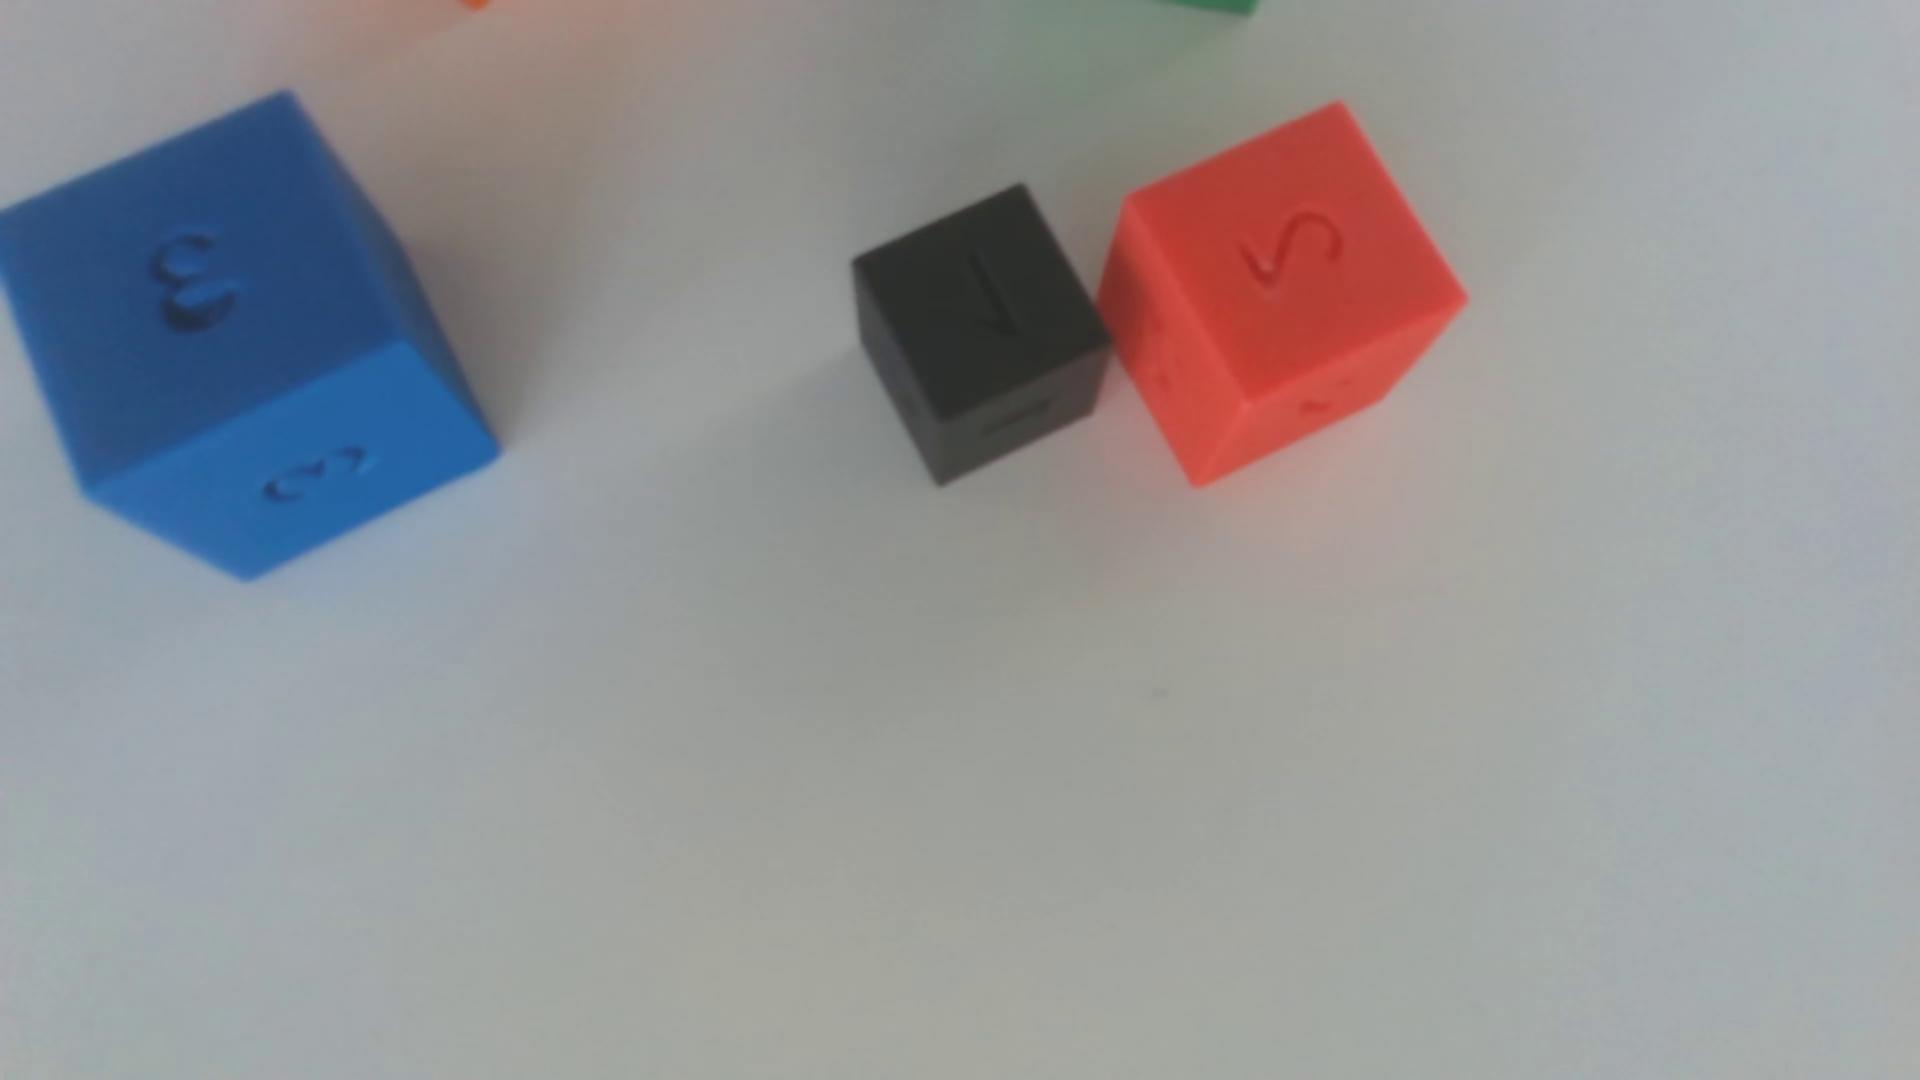black: (851, 183, 1112, 484)
blue: (0, 92, 501, 579)
green: (1170, 0, 1259, 18)
orange: (458, 0, 491, 12)
red: (1098, 102, 1466, 485)
